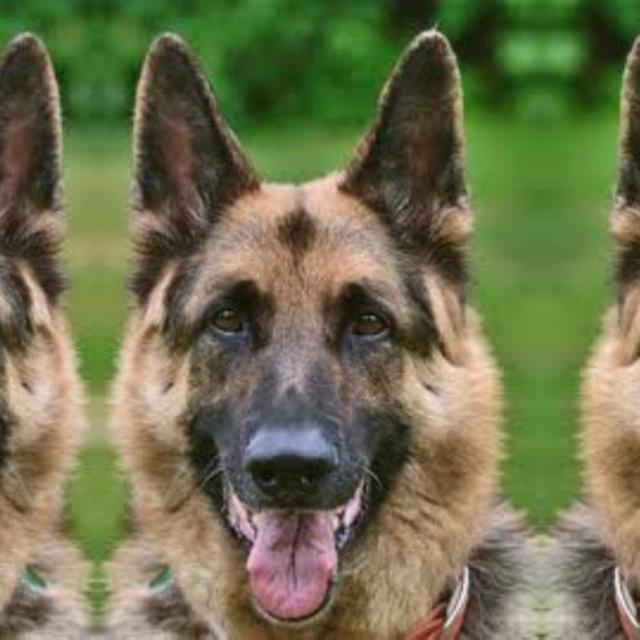dog: (99, 45, 518, 640), (0, 45, 98, 640), (569, 45, 640, 640)
